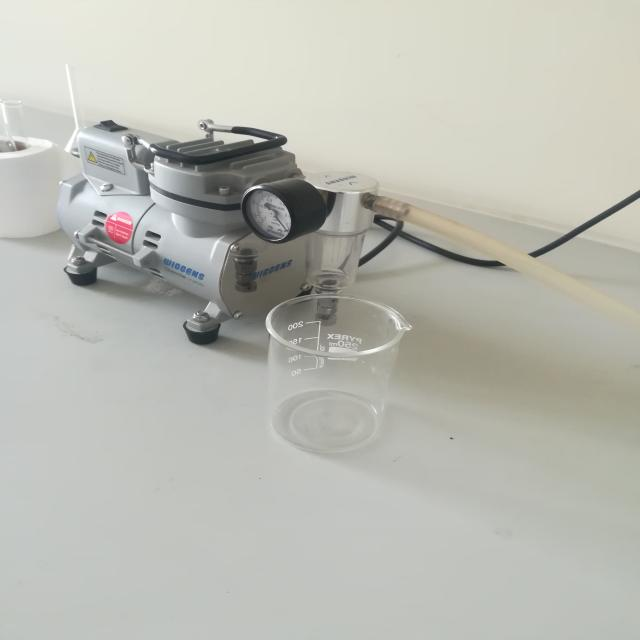Beaker: (239, 265, 425, 481)
